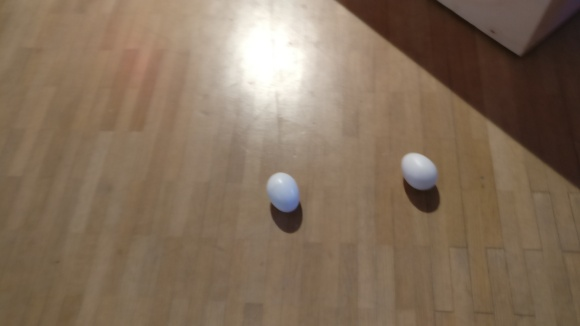egg: (402, 152, 439, 192), (267, 173, 300, 214)
